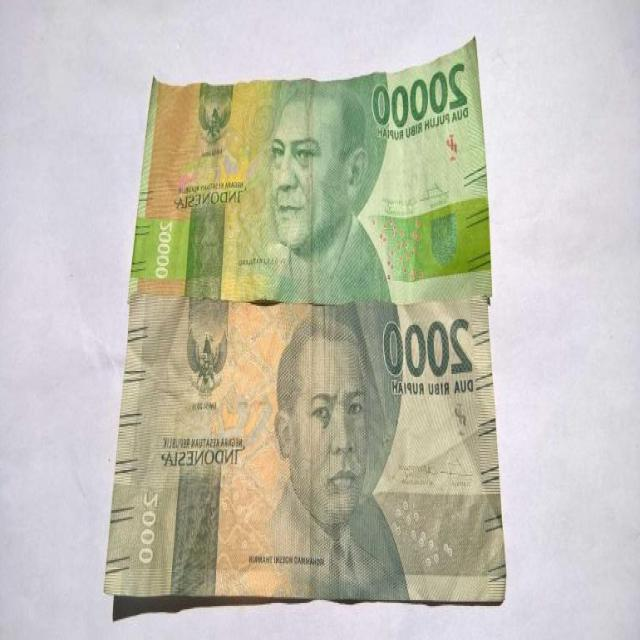dua puluh ribu rupiah: (136, 40, 476, 292)
dua ribu rupiah: (113, 292, 486, 601)
